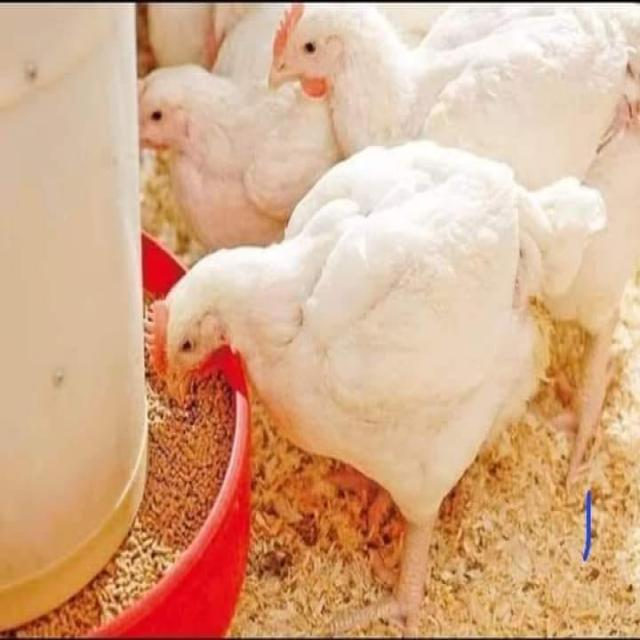Healthy: (155, 140, 551, 615)
